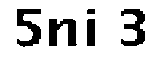3: (117, 5, 151, 50)
5: (11, 4, 44, 51)
i: (85, 3, 101, 51)
n: (46, 14, 77, 51)
